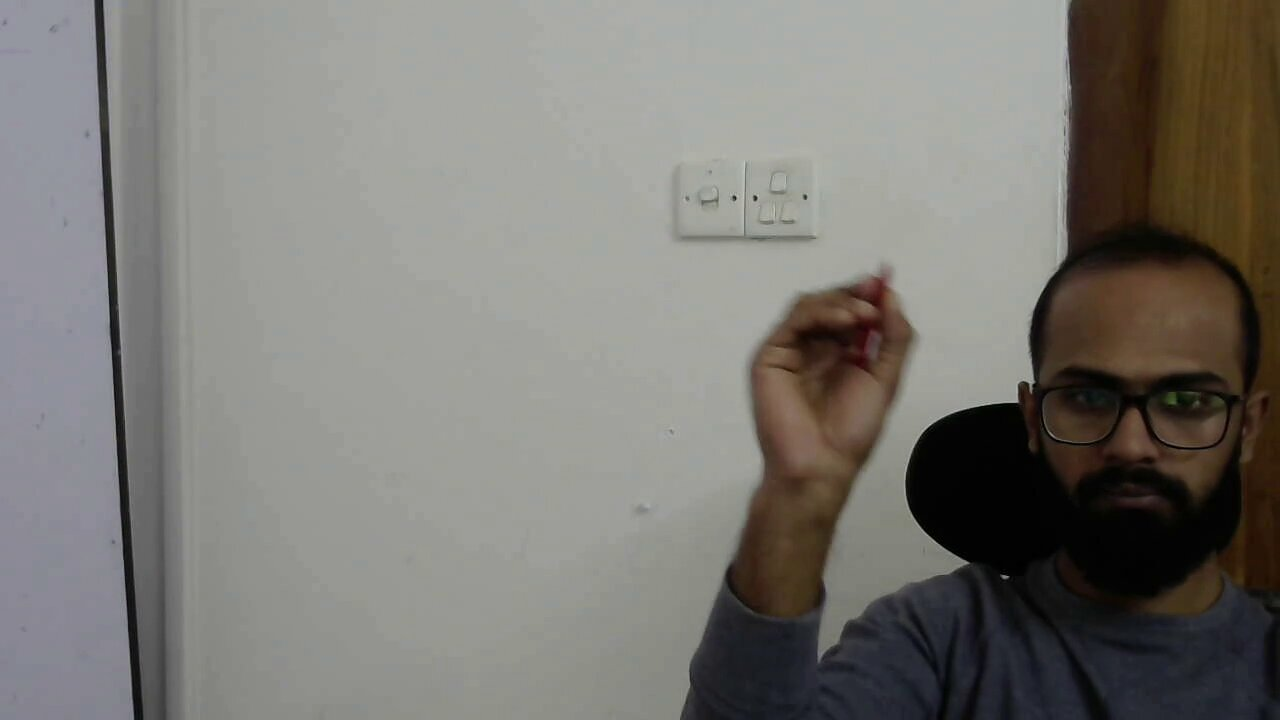pointer: (773, 261, 916, 409)
